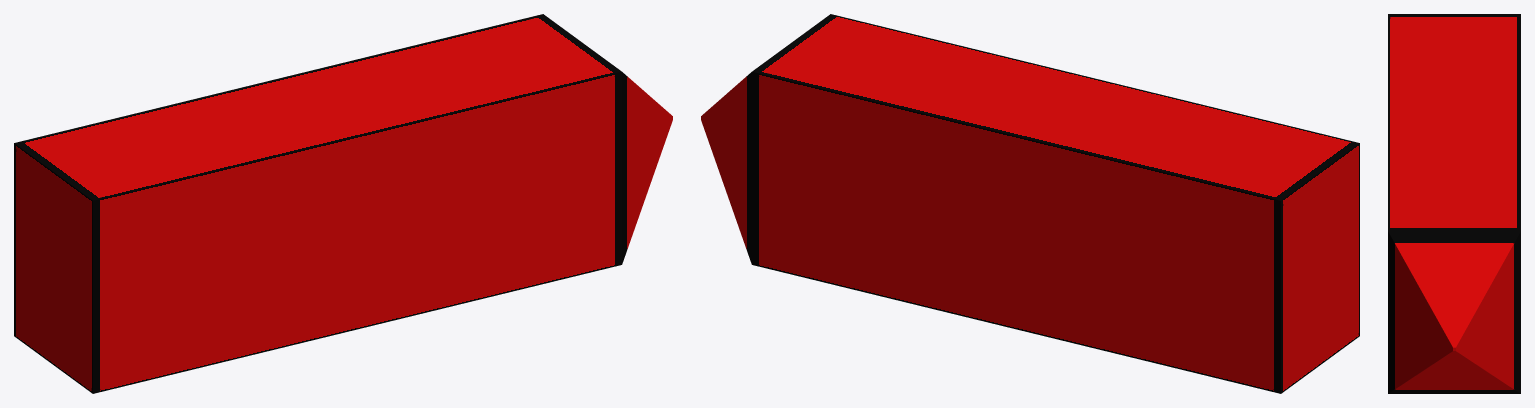
Rendered from node_conditional.obj.
3 views of the same model, side by side, from view 1: azimuth 30°, elevation 25°; view 2: azimuth 150°, elevation 25°; view 3: azimuth 270°, elevation 25° (orthographic). The views are drawn at different scales.
Visible parts, largest first — view 1: Node_conditional; view 2: Node_conditional; view 3: Node_conditional.
Part boxes in pixels (x1,y1,x2,y2): Node_conditional: (14, 14, 672, 393); Node_conditional: (701, 14, 1359, 393); Node_conditional: (1388, 14, 1520, 393).
Bounding box in the file's own units: 1.17 × 0.3489 × 0.258.
